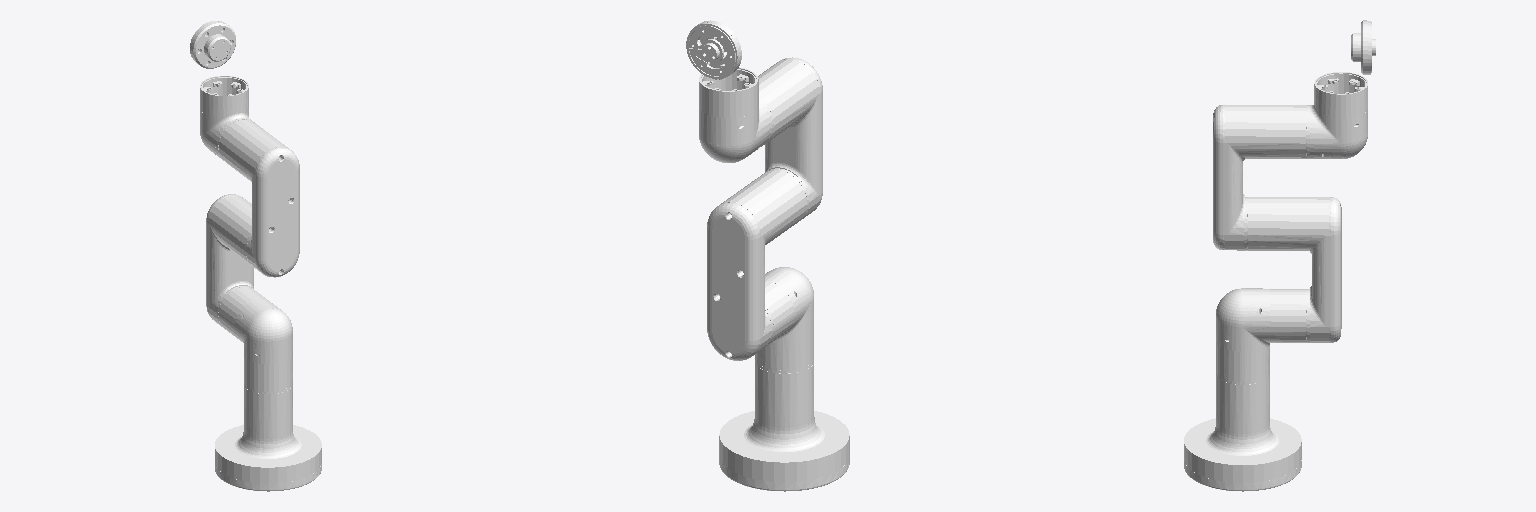
robot.urdf — robot_arm:
<?xml version="1.0" encoding="utf-8"?>
<!-- This URDF was automatically created by SolidWorks to URDF Exporter! Originally created by Stephen Brawner (brawner@gmail.com) 
     Commit Version: 1.6.0-4-g7f85cfe  Build Version: 1.6.7995.38578
     For more information, please see http://wiki.ros.org/sw_urdf_exporter -->
<robot
  name="robot_arm">
  <link
    name="base_link">
    <inertial>
      <origin
        xyz="2.0098E-09 -4.4114E-09 0.029745"
        rpy="0 0 0" />
      <mass
        value="0.5" />
      <inertia
        ixx="0.00018845"
        ixy="1.5277E-09"
        ixz="2.4138E-12"
        iyy="0.00018844"
        iyz="-4.3733E-12"
        izz="0.00025107" />
    </inertial>
    <visual>
      <origin
        xyz="0 0 0"
        rpy="0 0 0" />
      <geometry>
        <mesh
          filename="package://robot_arm/meshes/base_link.STL" />
      </geometry>
      <material
        name="">
        <color
          rgba="1 1 1 1" />
      </material>
    </visual>
    <collision>
      <origin
        xyz="0 0 0"
        rpy="0 0 0" />
      <geometry>
        <mesh
          filename="package://robot_arm/meshes/base_link.STL" />
      </geometry>
    </collision>
  </link>
  <link
    name="Link_1">
    <inertial>
      <origin
        xyz="0.00023661 0.012532 0.051872"
        rpy="0 0 0" />
      <mass
        value="0.05" />
      <inertia
        ixx="7.0921E-05"
        ixy="-2.4743E-07"
        ixz="-3.3354E-07"
        iyy="5.755E-05"
        iyz="-2.2769E-05"
        izz="5.9167E-05" />
    </inertial>
    <visual>
      <origin
        xyz="0 0 0"
        rpy="0 0 0" />
      <geometry>
        <mesh
          filename="package://robot_arm/meshes/Link_1.STL" />
      </geometry>
      <material
        name="">
        <color
          rgba="1 1 1 1" />
      </material>
    </visual>
    <collision>
      <origin
        xyz="0 0 0"
        rpy="0 0 0" />
      <geometry>
        <mesh
          filename="package://robot_arm/meshes/Link_1.STL" />
      </geometry>
    </collision>
  </link>
  <joint
    name="joint_1"
    type="revolute">
    <origin
      xyz="0 0 0.1002"
      rpy="0 0 0" />
    <parent
      link="base_link" />
    <child
      link="Link_1" />
    <axis
      xyz="0 0 1" />
    <limit
      lower="-3.14"
      upper="3.14"
      effort="10"
      velocity="1" />
  </joint>
  <link
    name="Link_2">
    <inertial>
      <origin
        xyz="-0.0001292 0.063369 0.0091447"
        rpy="0 0 0" />
      <mass
        value="0.1" />
      <inertia
        ixx="0.00022646"
        ixy="-8.5878E-07"
        ixz="9.9427E-08"
        iyy="7.1644E-05"
        iyz="3.5311E-05"
        izz="0.00021943" />
    </inertial>
    <visual>
      <origin
        xyz="0 0 0"
        rpy="0 0 0" />
      <geometry>
        <mesh
          filename="package://robot_arm/meshes/Link_2.STL" />
      </geometry>
      <material
        name="">
        <color
          rgba="1 1 1 1" />
      </material>
    </visual>
    <collision>
      <origin
        xyz="0 0 0"
        rpy="0 0 0" />
      <geometry>
        <mesh
          filename="package://robot_arm/meshes/Link_2.STL" />
      </geometry>
    </collision>
  </link>
  <joint
    name="joint_2"
    type="revolute">
    <origin
      xyz="0.00085238 0.060194 0.07"
      rpy="1.5708 0 3.1416" />
    <parent
      link="Link_1" />
    <child
      link="Link_2" />
    <axis
      xyz="-0.014159 0 0.9999" />
    <limit
      lower="-3.14"
      upper="3.14"
      effort="10"
      velocity="1" />
  </joint>
  <link
    name="Link_3">
    <inertial>
      <origin
        xyz="-0.0001292 0.063369 0.0091447"
        rpy="0 0 0" />
      <mass
        value="0.1" />
      <inertia
        ixx="0.00022646"
        ixy="-8.5878E-07"
        ixz="9.9427E-08"
        iyy="7.1644E-05"
        iyz="3.5311E-05"
        izz="0.00021943" />
    </inertial>
    <visual>
      <origin
        xyz="0 0 0"
        rpy="0 0 0" />
      <geometry>
        <mesh
          filename="package://robot_arm/meshes/Link_3.STL" />
      </geometry>
      <material
        name="">
        <color
          rgba="1 1 1 1" />
      </material>
    </visual>
    <collision>
      <origin
        xyz="0 0 0"
        rpy="0 0 0" />
      <geometry>
        <mesh
          filename="package://robot_arm/meshes/Link_3.STL" />
      </geometry>
    </collision>
  </link>
  <joint
    name="joint_3"
    type="revolute">
    <origin
      xyz="0.00071079 0.103 -0.050195"
      rpy="3.1416 0 3.1416" />
    <parent
      link="Link_2" />
    <child
      link="Link_3" />
    <axis
      xyz="-0.014159 0 0.9999" />
    <limit
      lower="-3.14"
      upper="3.14"
      effort="10"
      velocity="1" />
  </joint>
  <link
    name="Link_4">
    <inertial>
      <origin
        xyz="-0.00041835 0.011508 0.033364"
        rpy="0 0 0" />
      <mass
        value="0.05" />
      <inertia
        ixx="2.9037E-05"
        ixy="8.2044E-08"
        ixz="-3.9873E-08"
        iyy="2.9661E-05"
        iyz="-7.1824E-06"
        izz="3.1938E-05" />
    </inertial>
    <visual>
      <origin
        xyz="0 0 0"
        rpy="0 0 0" />
      <geometry>
        <mesh
          filename="package://robot_arm/meshes/Link_4.STL" />
      </geometry>
      <material
        name="">
        <color
          rgba="1 1 1 1" />
      </material>
    </visual>
    <collision>
      <origin
        xyz="0 0 0"
        rpy="0 0 0" />
      <geometry>
        <mesh
          filename="package://robot_arm/meshes/Link_4.STL" />
      </geometry>
    </collision>
  </link>
  <joint
    name="joint_4"
    type="revolute">
    <origin
      xyz="0.00071079 0.103 -0.050195"
      rpy="-3.1416 0 3.1416" />
    <parent
      link="Link_3" />
    <child
      link="Link_4" />
    <axis
      xyz="-0.014159 0 0.9999" />
    <limit
      lower="-3.14"
      upper="3.14"
      effort="10"
      velocity="1" />
  </joint>
  <link
    name="Link_5">
    <inertial>
      <origin
        xyz="-0.00011759 -0.0090492 0.038781"
        rpy="0 0 0" />
      <mass
        value="0.06" />
      <inertia
        ixx="4.2534E-05"
        ixy="-1.5112E-07"
        ixz="-1.5855E-07"
        iyy="3.2347E-05"
        iyz="-6.4749E-06"
        izz="5.2073E-05" />
    </inertial>
    <visual>
      <origin
        xyz="0 0 0"
        rpy="0 0 0" />
      <geometry>
        <mesh
          filename="package://robot_arm/meshes/Link_5.STL" />
      </geometry>
      <material
        name="">
        <color
          rgba="1 1 1 1" />
      </material>
    </visual>
    <collision>
      <origin
        xyz="0 0 0"
        rpy="0 0 0" />
      <geometry>
        <mesh
          filename="package://robot_arm/meshes/Link_5.STL" />
      </geometry>
    </collision>
  </link>
  <joint
    name="joint_5"
    type="revolute">
    <origin
      xyz="-0.00056637 0.0502 0.039996"
      rpy="1.5708 0 -3.1416" />
    <parent
      link="Link_4" />
    <child
      link="Link_5" />
    <axis
      xyz="0 0 1" />
    <limit
      lower="-3.14"
      upper="3.14"
      effort="10"
      velocity="1" />
  </joint>
  <link
    name="Link_6">
    <inertial>
      <origin
        xyz="-0.00016098 -0.00014107 0.011838"
        rpy="0 0 0" />
      <mass
        value="0.02" />
      <inertia
        ixx="3.8864E-06"
        ixy="-2.9659E-08"
        ixz="9.9832E-10"
        iyy="3.8456E-06"
        iyz="4.7763E-08"
        izz="7.1396E-06" />
    </inertial>
    <visual>
      <origin
        xyz="0 0 0"
        rpy="0 0 0" />
      <geometry>
        <mesh
          filename="package://robot_arm/meshes/Link_6.STL" />
      </geometry>
      <material
        name="">
        <color
          rgba="1 1 1 1" />
      </material>
    </visual>
    <collision>
      <origin
        xyz="0 0 0"
        rpy="0 0 0" />
      <geometry>
        <mesh
          filename="package://robot_arm/meshes/Link_6.STL" />
      </geometry>
    </collision>
  </link>
  <joint
    name="joint_6"
    type="revolute">
    <origin
      xyz="0.0004984 0.035196 0.045"
      rpy="1.5708 -1.5708 0" />
    <parent
      link="Link_5" />
    <child
      link="Link_6" />
    <axis
      xyz="0 -0.014159 -0.9999" />
    <limit
      lower="-3.14"
      upper="3.14"
      effort="10"
      velocity="1" />
  </joint>
</robot>

--- What the picture shows (computed from the rendered views, not written in the file) ---
Views: 3 orthographic renders of the robot side by side, from view 1: azimuth 30°, elevation 25°; view 2: azimuth 150°, elevation 25°; view 3: azimuth 270°, elevation 25°.
Robot: robot_arm — 7 links, 6 joints (6 revolute); root link base_link; default pose: all joints at 0.
Visible links, largest first — view 1: Link_3, base_link, Link_1, Link_2, Link_4, Link_6; view 2: Link_2, base_link, Link_3, Link_4, Link_1, Link_6; view 3: base_link, Link_2, Link_3, Link_1, Link_4, Link_6.
Boxes of the visible links, x1,y1,x2,y2 form: Link_3: [218, 119, 299, 277]; base_link: [215, 386, 321, 491]; Link_1: [218, 287, 292, 393]; Link_2: [206, 194, 253, 326]; Link_4: [200, 76, 254, 160]; Link_6: [190, 21, 235, 68]; Link_2: [707, 170, 806, 360]; base_link: [719, 364, 849, 491]; Link_3: [758, 57, 822, 220]; Link_4: [699, 67, 773, 162]; Link_1: [755, 267, 813, 373]; Link_6: [686, 20, 741, 78]; base_link: [1184, 375, 1301, 491]; Link_2: [1248, 197, 1341, 342]; Link_3: [1213, 105, 1306, 250]; Link_1: [1216, 288, 1306, 384]; Link_4: [1306, 72, 1367, 158]; Link_6: [1351, 20, 1375, 74].
Bounding box of the posed robot: 0.12 × 0.1955 × 0.4989 m (x, y, z).
Meshes: 7 distinct files referenced, 6 mesh visuals loaded (6 binary STL); not drawn: 1 (reference not matched to a file when rendering).
